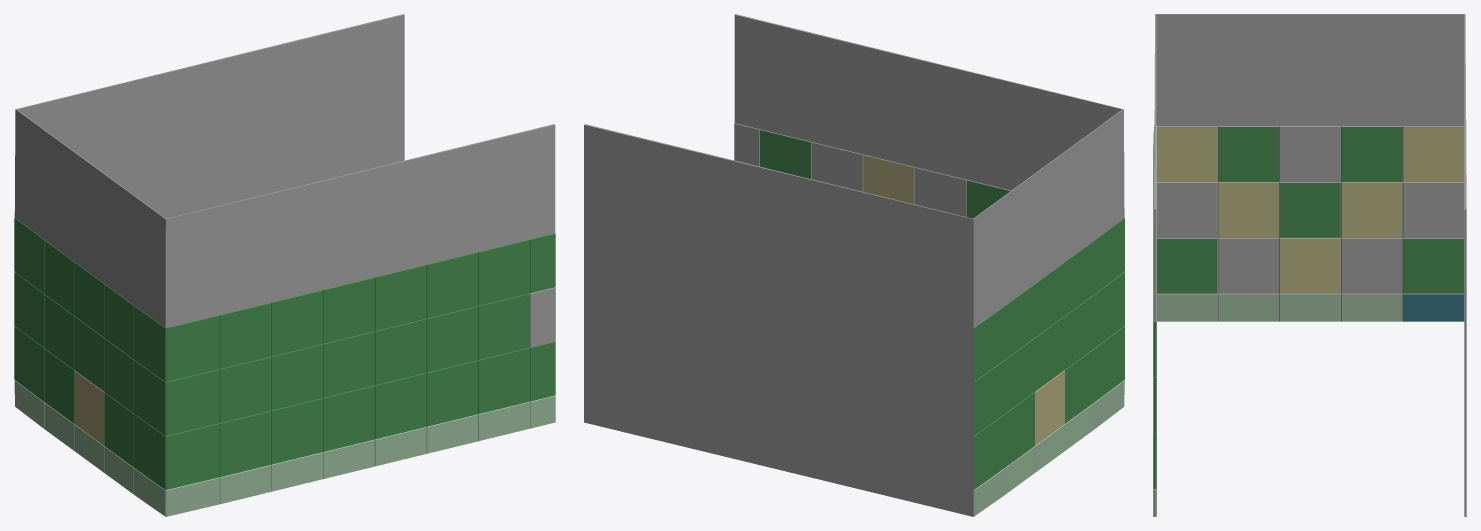
File: kitcWall.fbx
3 views of the same model, side by side, from view 1: azimuth 30°, elevation 25°; view 2: azimuth 150°, elevation 25°; view 3: azimuth 270°, elevation 25° (orthographic). The views are drawn at different scales.
Visible parts, largest first — view 1: kitc_wall; view 2: kitc_wall; view 3: kitc_wall.
Boxes of the visible parts, x1,y1,x2,y2 form: kitc_wall: (14, 14, 555, 516); kitc_wall: (584, 14, 1124, 516); kitc_wall: (1153, 14, 1466, 516).
Size of the model in its own units: 302 by 220 by 203.
